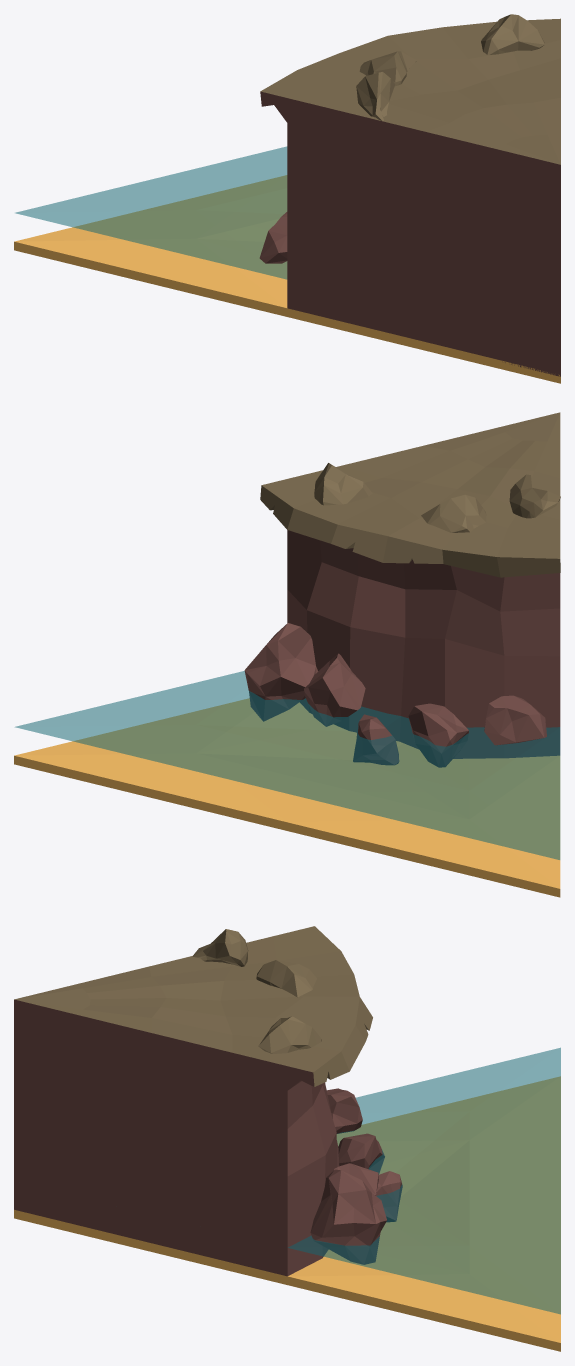
The model's file is tile8.glb.
3 views of the same model, one above another, from view 1: azimuth 30°, elevation 25°; view 2: azimuth 150°, elevation 25°; view 3: azimuth 270°, elevation 25° (orthographic).
Visible parts, largest first — view 1: hill8, sand8, water8, bush2.003, bush3.003, bush1.003, rock1.001; view 2: hill8, sand8, water8, rock4.001, rock5.001, rock3.001, rock1.001, rock0.013, bush1.003, bush2.003, bush3.003; view 3: hill8, sand8, water8, rock4.001, bush2.003, bush1.003, rock3.001, bush3.003, rock1.001, rock0.013, rock5.001.
Boxes of the visible parts, x1,y1,x2,y2 form: hill8: (260,18,560,376); sand8: (14,175,560,383); water8: (15,146,287,279); bush2.003: (481,14,544,54); bush3.003: (356,72,395,120); bush1.003: (359,51,416,86); rock1.001: (259,212,287,263); hill8: (260,412,560,758); sand8: (14,698,560,897); water8: (15,671,560,859); rock4.001: (244,623,318,721); rock5.001: (304,653,365,726); rock3.001: (408,703,468,767); rock1.001: (484,695,546,745); rock0.013: (353,714,399,765); bush1.003: (421,494,486,532); bush2.003: (314,463,372,505); bush3.003: (509,474,560,518); hill8: (14,926,372,1276); sand8: (14,1076,560,1351); water8: (288,1047,560,1314); rock4.001: (310,1169,386,1264); bush2.003: (258,1016,321,1053); bush1.003: (256,960,316,997); rock3.001: (338,1133,384,1173); bush3.003: (193,929,248,966); rock1.001: (326,1088,362,1133); rock0.013: (376,1171,402,1222); rock5.001: (334,1163,378,1195).
Bounding box in the file's own units: 1 × 0.4577 × 0.866.
